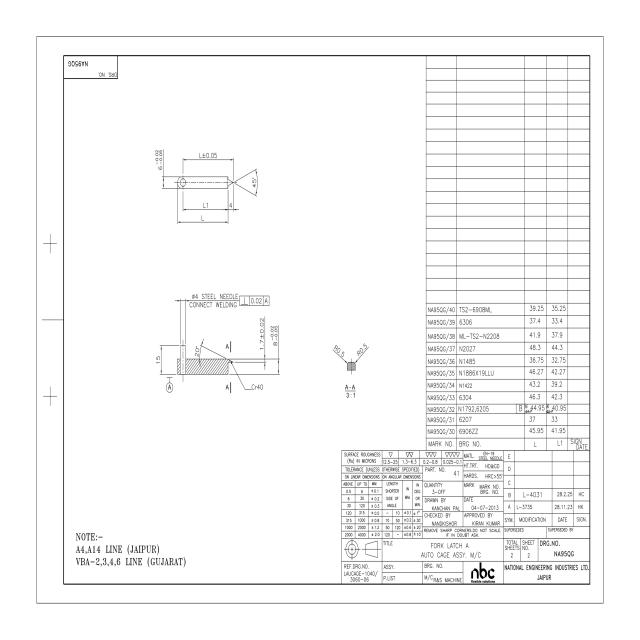dimension: (191, 290, 239, 300), (258, 315, 266, 351), (154, 146, 164, 170), (356, 340, 368, 358), (333, 342, 346, 358), (198, 151, 218, 161), (270, 323, 278, 347), (193, 344, 201, 359), (201, 200, 210, 211), (251, 175, 257, 189), (155, 354, 160, 365), (200, 213, 205, 222), (229, 201, 233, 209)
